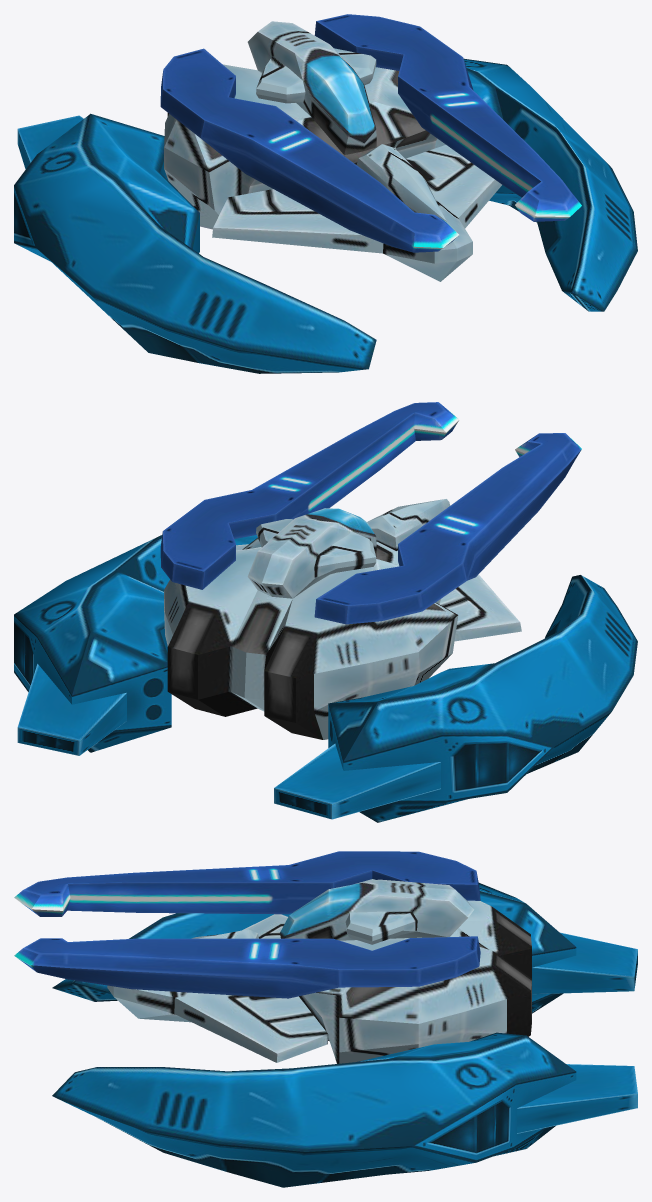
3 renders of one model, top to bottom at view 1: azimuth 30°, elevation 25°; view 2: azimuth 150°, elevation 25°; view 3: azimuth 270°, elevation 25°, orthographic. The views are drawn at different scales.
Visible parts, largest first — view 1: alas, canon, cuerpo; view 2: alas, cuerpo, canon; view 3: alas, canon, cuerpo.
Part boxes in pixels (x1,y1,x2,y2): alas: (14, 58, 637, 373); canon: (160, 14, 581, 252); cuerpo: (164, 21, 501, 281); alas: (14, 535, 637, 822); cuerpo: (164, 499, 521, 739); canon: (160, 402, 581, 624); alas: (52, 883, 637, 1187); canon: (14, 851, 480, 998); cuerpo: (107, 879, 531, 1063).
Size of the model in its own units: 241 by 96.02 by 267.
3 materials, 3 textured.
